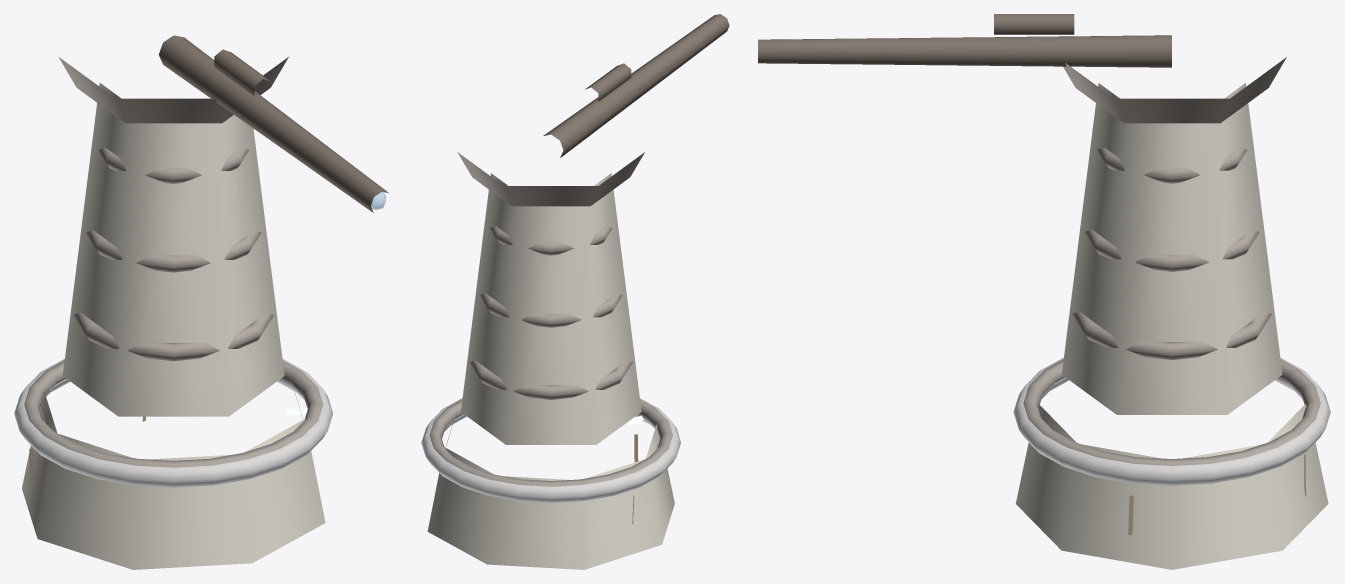
The model's file is tower_sniper_1.glb.
The picture shows the model from 3 angles, left to right: view 1: azimuth 30°, elevation 25°; view 2: azimuth 150°, elevation 25°; view 3: azimuth 270°, elevation 25°; orthographic projection. The views are drawn at different scales.
Visible parts, largest first — view 1: turret, base; view 2: turret, base; view 3: turret, base.
Part boxes in pixels (left/top/right/bottom): turret: left=58, top=35, right=388, bottom=416; base: left=14, top=359, right=333, bottom=569; turret: left=457, top=14, right=729, bottom=444; base: left=421, top=398, right=680, bottom=569; turret: left=758, top=14, right=1286, bottom=414; base: left=1013, top=357, right=1330, bottom=569.
Size of the model in its own units: 2.76 by 4.7 by 4.98.
